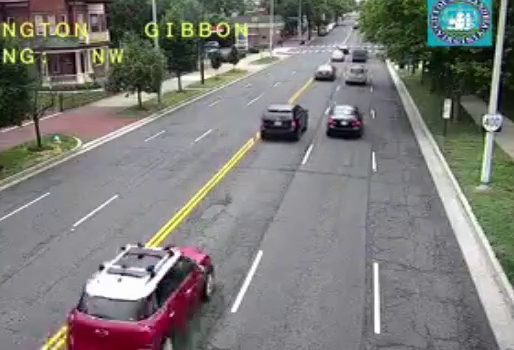car: (66, 243, 213, 350), (262, 104, 307, 136), (326, 105, 362, 135), (346, 66, 367, 84), (315, 64, 334, 79)
